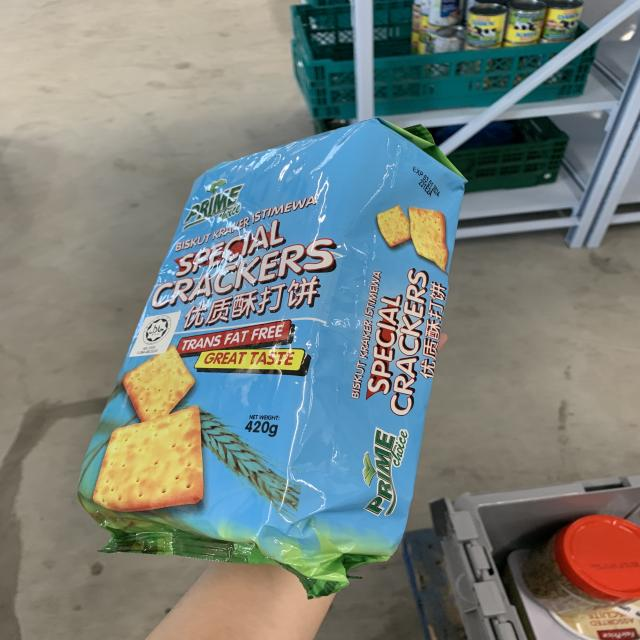object_name: (144, 123, 403, 570)
